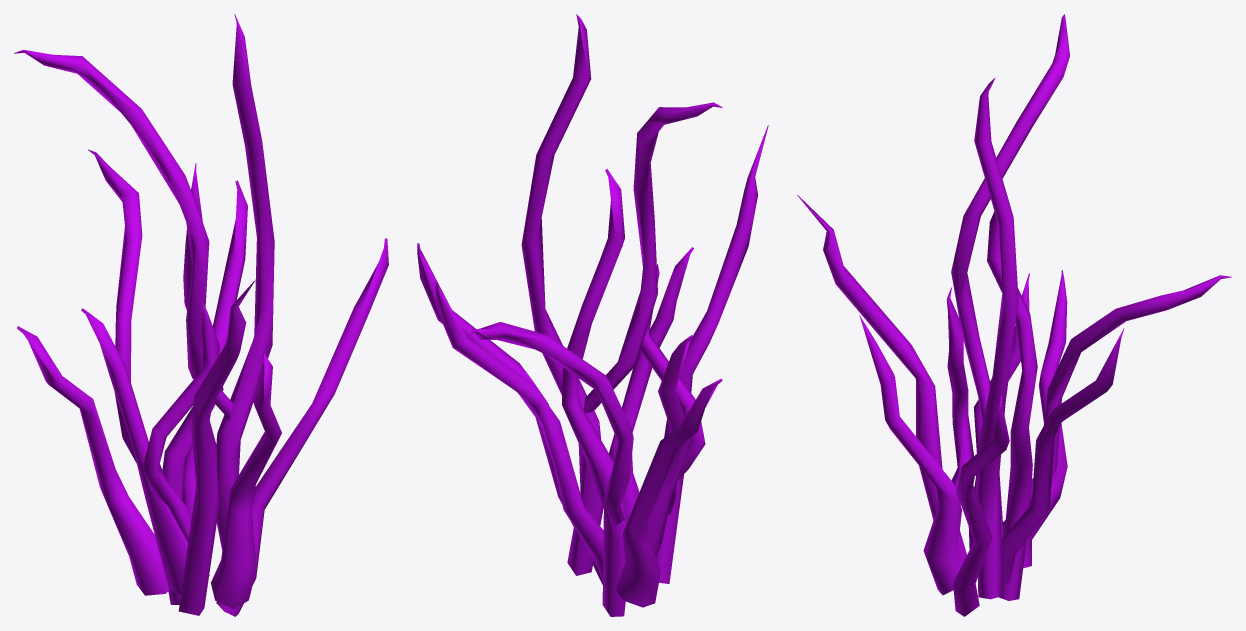
The model's file is plant1-lod1.fbx.
3 renders of one model, left to right at view 1: azimuth 30°, elevation 25°; view 2: azimuth 150°, elevation 25°; view 3: azimuth 270°, elevation 25°, orthographic. The views are drawn at different scales.
Parts seen in each view (by area): view 1: plant1-lod1; view 2: plant1-lod1; view 3: plant1-lod1.
Part boxes in pixels (left/top/right/bottom): plant1-lod1: left=14, top=14, right=388, bottom=616; plant1-lod1: left=417, top=14, right=768, bottom=616; plant1-lod1: left=797, top=14, right=1231, bottom=616.
Bounding box in the file's own units: 1.77 × 2.91 × 2.11.
